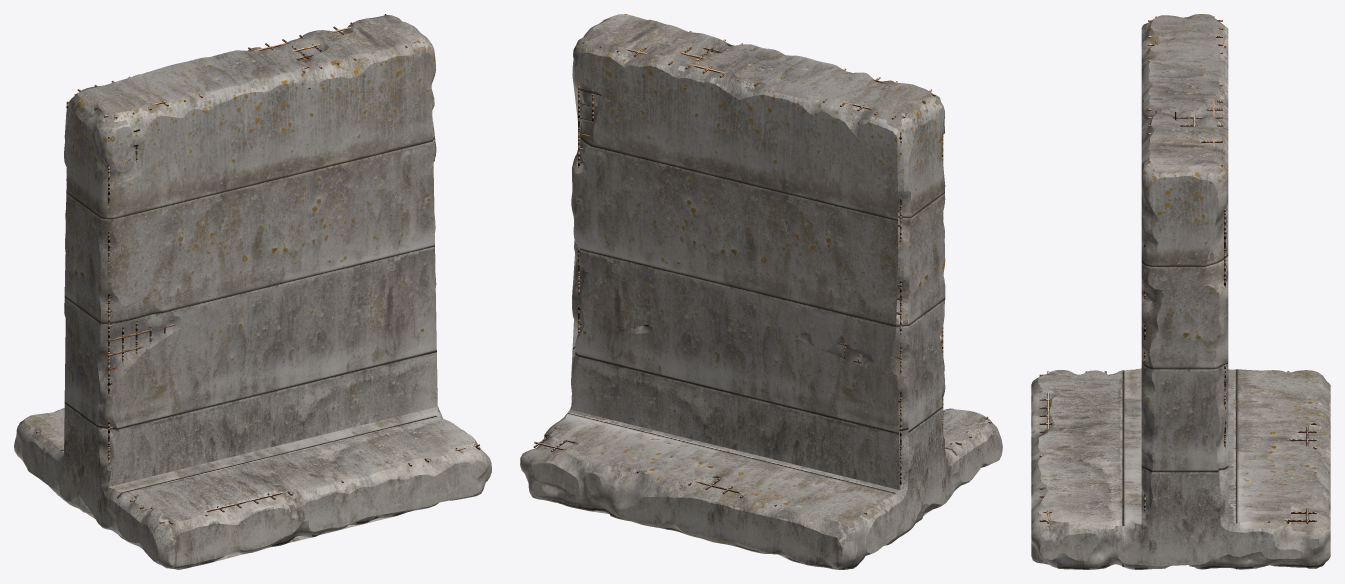
The model's file is Bet_bloc2.fbx.
The picture shows the model from 3 angles, left to right: view 1: azimuth 30°, elevation 25°; view 2: azimuth 150°, elevation 25°; view 3: azimuth 270°, elevation 25°; orthographic projection. The views are drawn at different scales.
Visible parts, largest first — view 1: Plane_dmg.001; view 2: Plane_dmg.001; view 3: Plane_dmg.001.
Boxes of the visible parts, x1,y1,x2,y2 form: Plane_dmg.001: [14, 14, 491, 569]; Plane_dmg.001: [520, 14, 1002, 569]; Plane_dmg.001: [1031, 14, 1330, 569].
Bounding box in the file's own units: 200 × 237 × 160.
